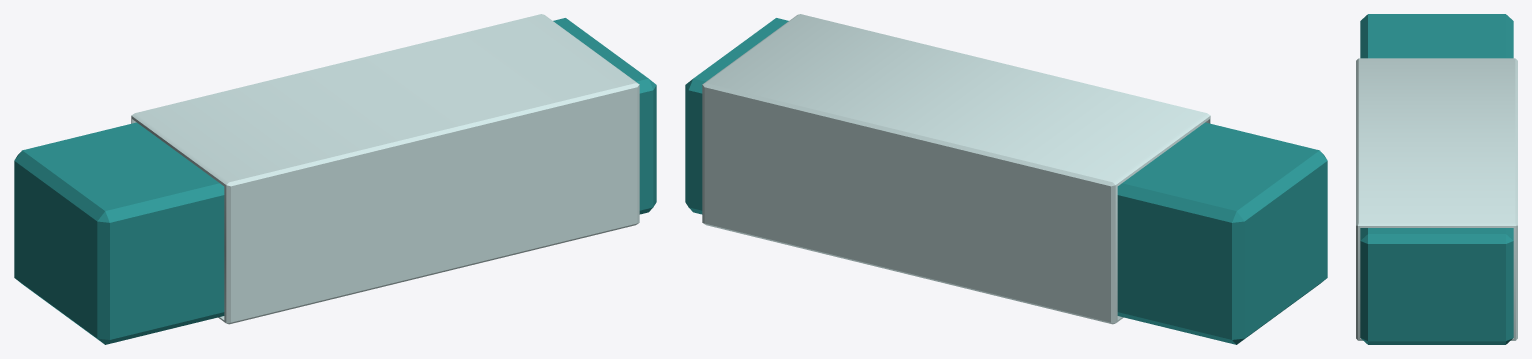
The model's file is SM_Eraser_02.FBX.
The picture shows the model from 3 angles, left to right: view 1: azimuth 30°, elevation 25°; view 2: azimuth 150°, elevation 25°; view 3: azimuth 270°, elevation 25°; orthographic projection. The views are drawn at different scales.
Visible parts, largest first — view 1: SM_Eraser_02; view 2: SM_Eraser_02; view 3: SM_Eraser_02.
Boxes of the visible parts, bbox=[...] form: SM_Eraser_02: bbox=[14, 14, 656, 344]; SM_Eraser_02: bbox=[685, 14, 1327, 344]; SM_Eraser_02: bbox=[1356, 14, 1517, 344].
Size of what is drawn, in the model's own units: 70 by 16.99 by 21.16.
